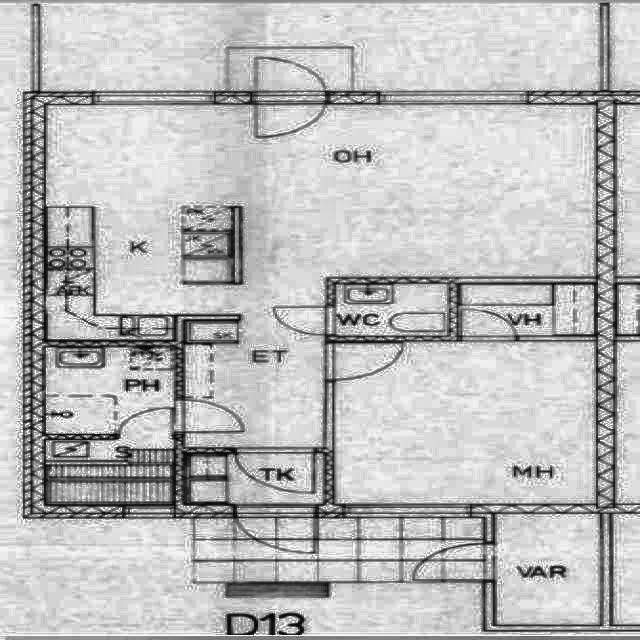room: (334, 341, 596, 504), (495, 513, 599, 625), (45, 345, 175, 434), (460, 283, 594, 336), (186, 453, 325, 503), (337, 284, 448, 336)
